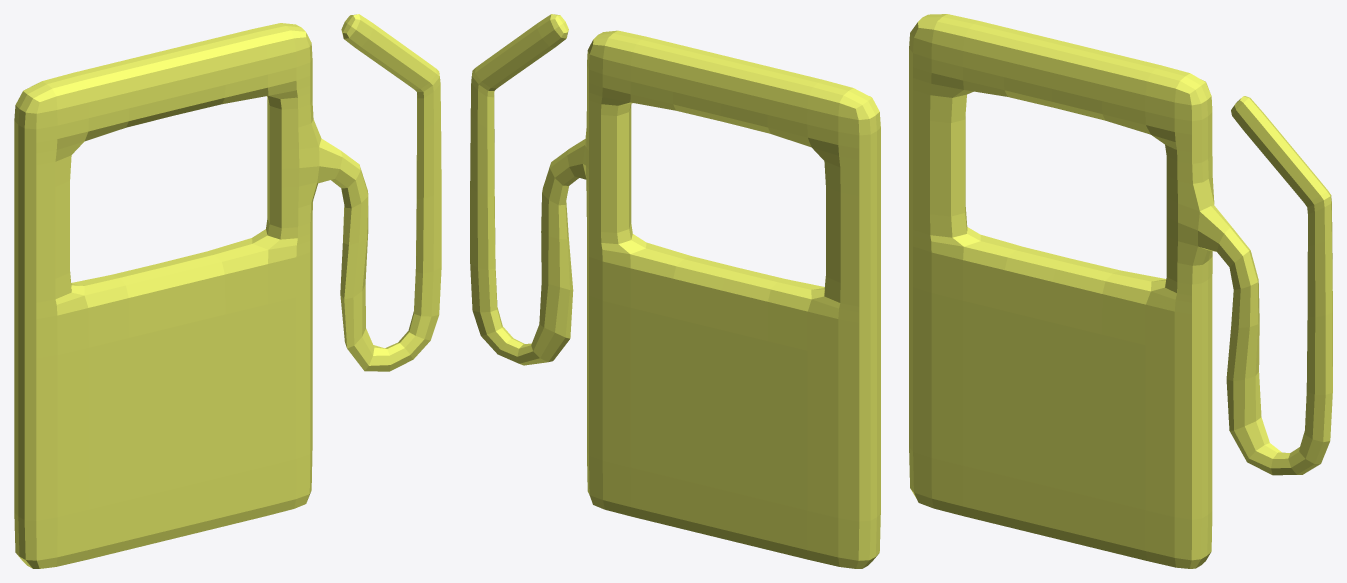
Rendered from Fuel.fbx.
3 renders of one model, left to right at view 1: azimuth 30°, elevation 25°; view 2: azimuth 150°, elevation 25°; view 3: azimuth 330°, elevation 25°, orthographic. The views are drawn at different scales.
Parts seen in each view (by area): view 1: Plane; view 2: Plane; view 3: Plane.
Boxes of the visible parts, bbox=[...] form: Plane: bbox=[14, 14, 441, 568]; Plane: bbox=[470, 14, 880, 568]; Plane: bbox=[909, 14, 1332, 568].
Size of the model in its own units: 451 by 495 by 40.18.
